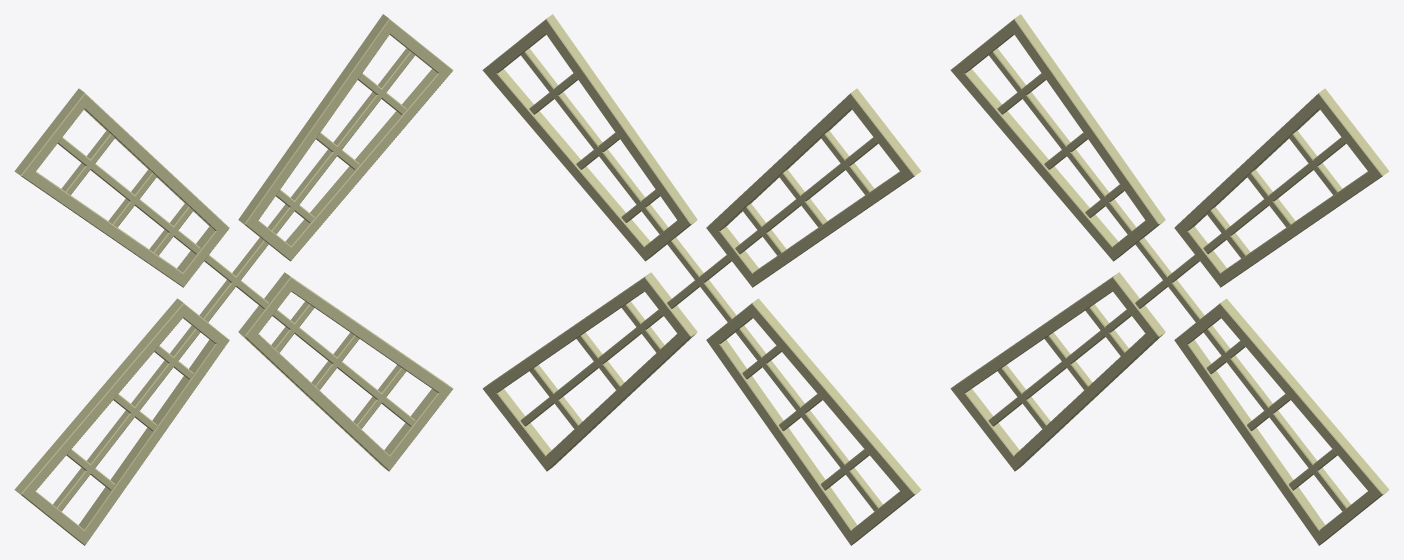
File: fp_mill_dutch_sails.glb
The picture shows the model from 3 angles, left to right: view 1: azimuth 30°, elevation 25°; view 2: azimuth 150°, elevation 25°; view 3: azimuth 330°, elevation 25°; orthographic projection.
Parts seen in each view (by area): view 1: Rectangle015; view 2: Rectangle015; view 3: Rectangle015.
Boxes of the visible parts, box(x1,y1,x2,y2) form: Rectangle015: box(14, 14, 453, 545); Rectangle015: box(482, 14, 921, 545); Rectangle015: box(950, 14, 1389, 545).
Bounding box in the file's own units: 1.17 × 1.17 × 0.0322.
